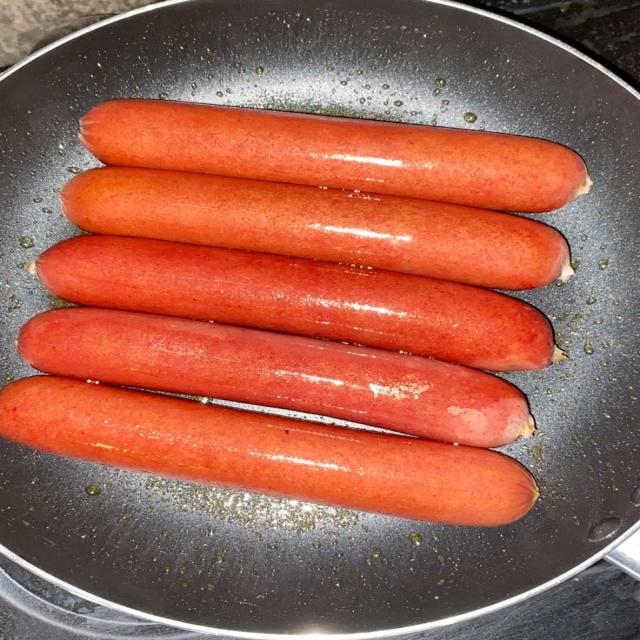sausage: (0, 377, 538, 525), (18, 308, 533, 447), (36, 236, 556, 370), (61, 168, 573, 289), (80, 100, 590, 212)
